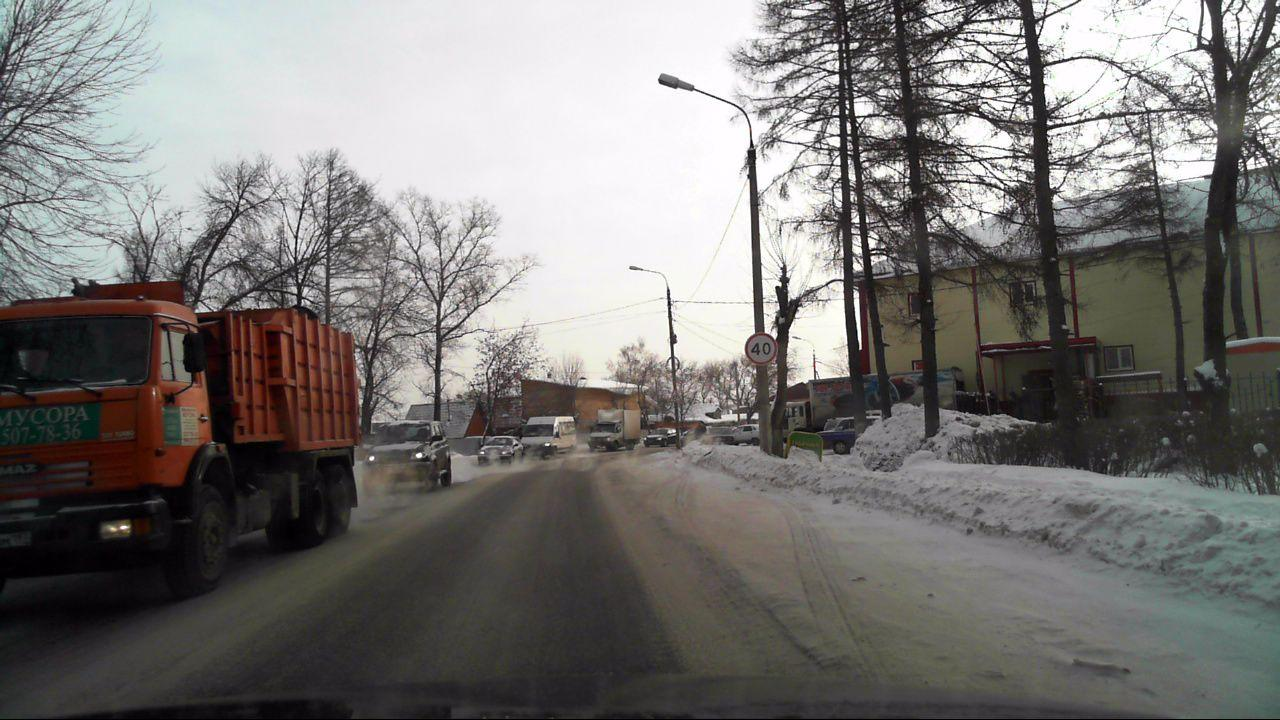1_23: (668, 390, 682, 403)
3_24: (745, 332, 776, 365)
